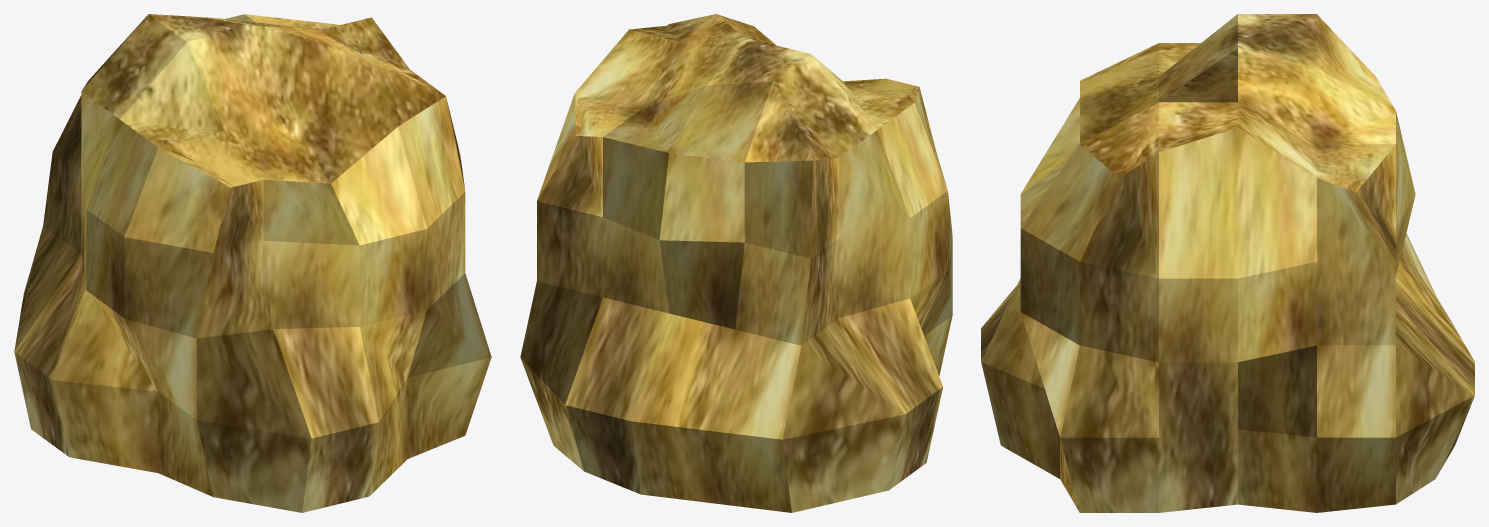
File: gold.fbx
The picture shows the model from 3 angles, left to right: view 1: azimuth 30°, elevation 25°; view 2: azimuth 150°, elevation 25°; view 3: azimuth 270°, elevation 25°; orthographic projection. The views are drawn at different scales.
Parts seen in each view (by area): view 1: Gold; view 2: Gold; view 3: Gold.
Part boxes in pixels (<box>): Gold: <box>14,14,491,512</box>; Gold: <box>520,14,952,512</box>; Gold: <box>981,14,1474,512</box>.
Size of the model in its own units: 100 by 100 by 112.
Materials: 1 (1 with a texture image).
